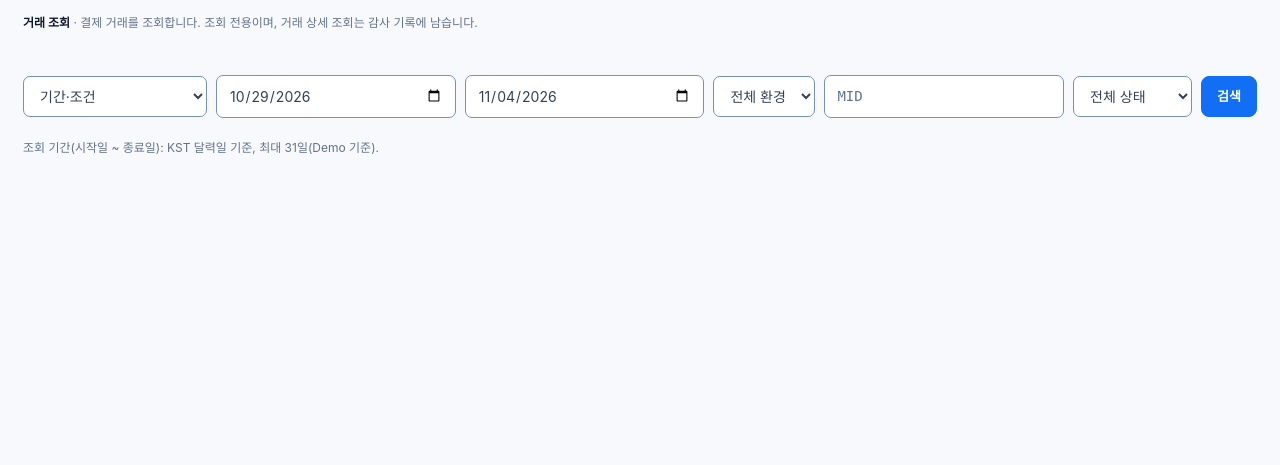
Test: TransactionsScreen (TXN-OPS-001 §7 AC 10 — read-only transaction lookup) › an audit failure shows the fixed message and no detail; a read failure says the payment service is unreachable (not "not saved")
This screenshot has width=1280, height=465.
Click the button "검색" at (1229, 96), box [1201,76,1257,117]
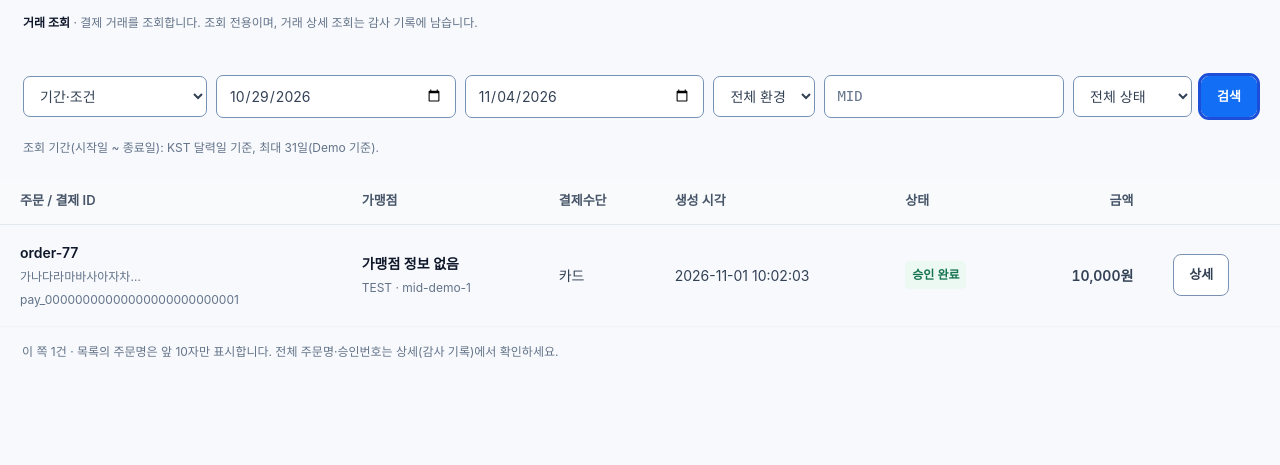
Click the button "상세" at (1201, 275), box [1173,254,1229,296]
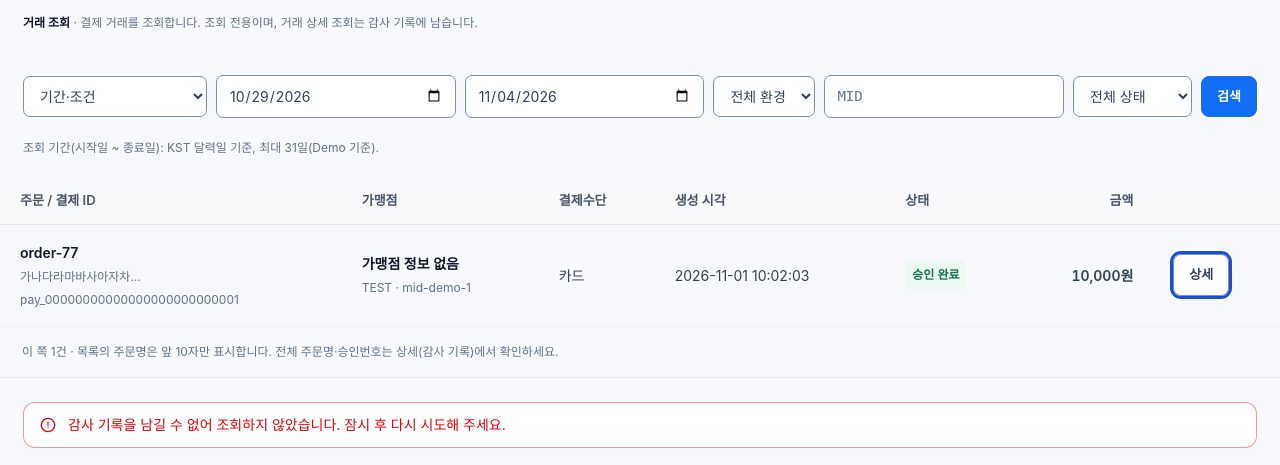
Expected: the text "감사 기록을 남길 수 없어 조회하지 않았습니다. 잠시 후 다시 시도해 주세요." is shown, [68,416,506,433]
Click the button "상세" at (1201, 275), box [1173,254,1229,296]
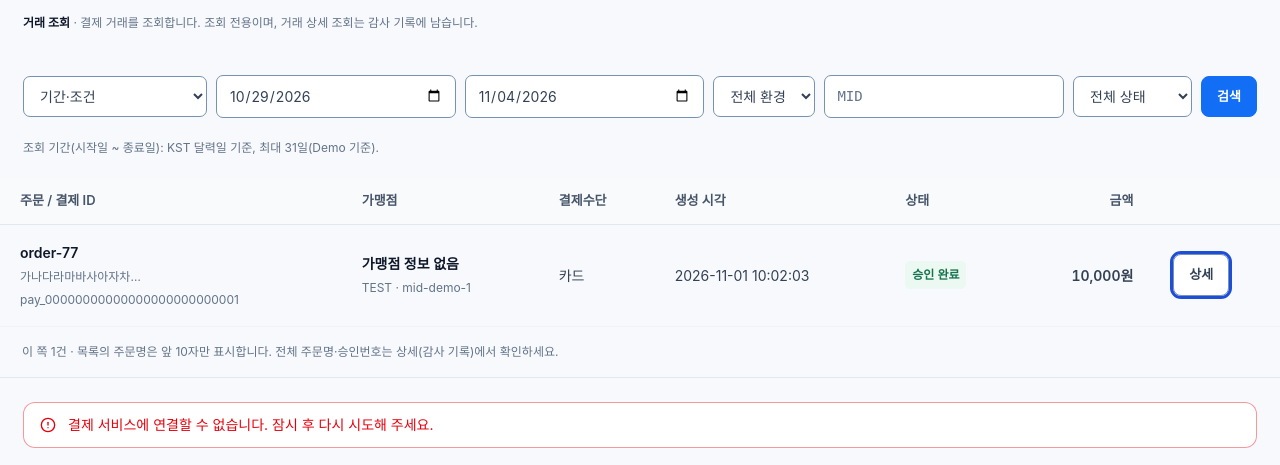
Expected: the text "결제 서비스에 연결할 수 없습니다. 잠시 후 다시 시도해 주세요." is shown, [68,416,434,433]
